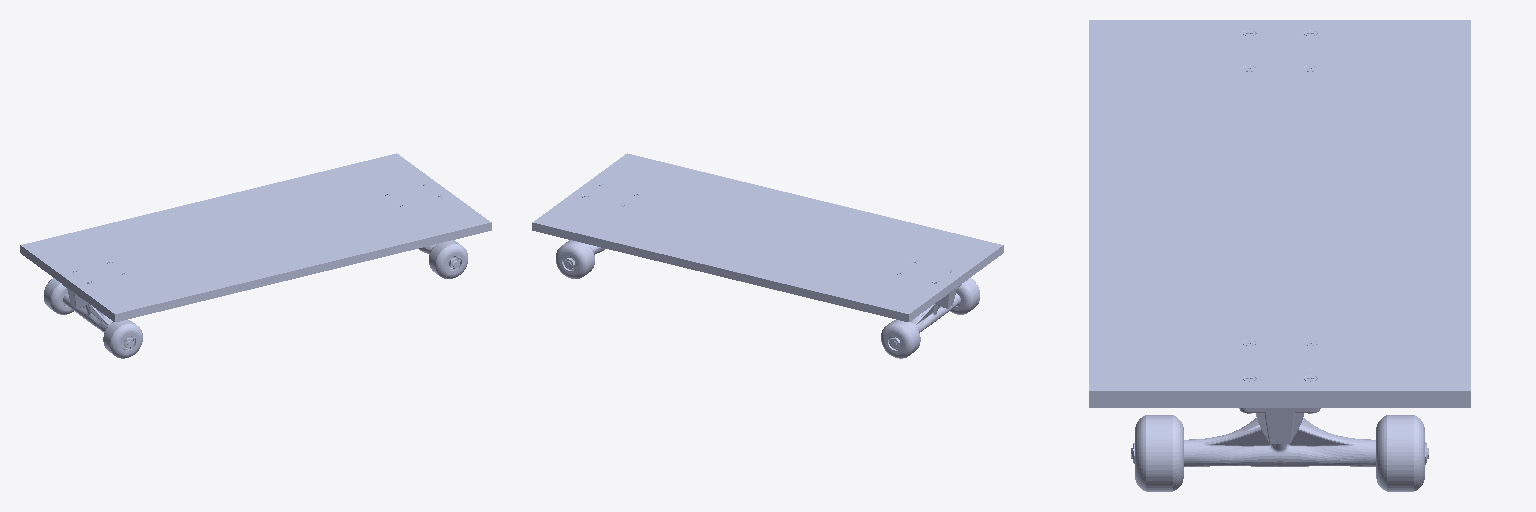
The robot description file, URDF, robot "skate":
<?xml version="1.0" encoding="utf-8"?>
<!-- This URDF was automatically created by SolidWorks to URDF Exporter! Originally created by [author] ([email redacted]) 
     Commit Version: 1.6.0-4-g7f85cfe  Build Version: 1.6.7995.38578
     For more information, please see http://wiki.ros.org/sw_urdf_exporter -->
<robot
  name="skate">
  <link
    name="base_link">
    <inertial>
      <origin
        xyz="-3.90900970040696E-07 1.65554556660567E-08 0.0803398063222811"
        rpy="0 0 0" />
      <mass
        value="1.87355927123978" />
      <inertia
        ixx="0.00903114129612671"
        ixy="-1.58213084430304E-08"
        ixz="-4.399022323366E-09"
        iyy="0.0474941673494156"
        iyz="1.8618547459719E-10"
        izz="0.0564670480761005" />
    </inertial>
    <visual>
      <origin
        xyz="0 0 0"
        rpy="0 0 0" />
      <geometry>
        <mesh
          filename="package://skate/meshes/base_link.STL" />
      </geometry>
      <material
        name="">
        <color
          rgba="0.792156862745098 0.819607843137255 0.933333333333333 1" />
      </material>
    </visual>
    <collision>
      <origin
        xyz="0 0 0"
        rpy="0 0 0" />
      <geometry>
        <mesh
          filename="package://skate/meshes/base_link.STL" />
      </geometry>
    </collision>
  </link>
  <link
    name="tr0">
    <inertial>
      <origin
        xyz="-0.00394785875464684 1.37510124957975E-05 0.00254298733552262"
        rpy="0 0 0" />
      <mass
        value="0.054711382215971" />
      <inertia
        ixx="7.61776062793999E-05"
        ixy="4.24208360983496E-09"
        ixz="-1.67941899830751E-07"
        iyy="6.50792133855701E-06"
        iyz="3.53198528592784E-09"
        izz="7.70651806985149E-05" />
    </inertial>
    <visual>
      <origin
        xyz="0 0 0"
        rpy="0 0 0" />
      <geometry>
        <mesh
          filename="package://skate/meshes/tr0.STL" />
      </geometry>
      <material
        name="">
        <color
          rgba="0.792156862745098 0.819607843137255 0.933333333333333 1" />
      </material>
    </visual>
    <collision>
      <origin
        xyz="0 0 0"
        rpy="0 0 0" />
      <geometry>
        <mesh
          filename="package://skate/meshes/tr0.STL" />
      </geometry>
    </collision>
  </link>
  <joint
    name="trj0"
    type="revolute">
    <origin
      xyz="0.248451238407881 0 0.0249999999999996"
      rpy="0 0.380444263902653 0" />
    <parent
      link="base_link" />
    <child
      link="tr0" />
    <axis
      xyz="0 0 -1" />
    <limit
      lower="-0.227799"
      upper="0.227799"
      effort="0"
      velocity="0" />
  </joint>
  <link
    name="wh0">
    <inertial>
      <origin
        xyz="0 -3.7470027081099E-16 -6.24847396046846E-15"
        rpy="0 0 0" />
      <mass
        value="0.0490782123073816" />
      <inertia
        ixx="1.14097578389298E-05"
        ixy="-2.95578023787108E-23"
        ixz="5.51817720020061E-24"
        iyy="1.63120870051882E-05"
        iyz="5.05450120212838E-22"
        izz="1.14097578389298E-05" />
    </inertial>
    <visual>
      <origin
        xyz="0 0 0"
        rpy="0 0 0" />
      <geometry>
        <mesh
          filename="package://skate/meshes/wh0.STL" />
      </geometry>
      <material
        name="">
        <color
          rgba="0.792156862745098 0.819607843137255 0.933333333333333 1" />
      </material>
    </visual>
    <collision>
      <origin
        xyz="0 0 0"
        rpy="0 0 0" />
      <geometry>
        <mesh
          filename="package://skate/meshes/wh0.STL" />
      </geometry>
    </collision>
  </link>
  <joint
    name="whj0"
    type="continuous">
    <origin
      xyz="0 -0.079 0"
      rpy="-3.1416 -0.38044 0" />
    <parent
      link="tr0" />
    <child
      link="wh0" />
    <axis
      xyz="0 -1 0" />
  </joint>
  <link
    name="wh1">
    <inertial>
      <origin
        xyz="0 -4.16333634234434E-16 -6.21377949094892E-15"
        rpy="0 0 0" />
      <mass
        value="0.0490782123073816" />
      <inertia
        ixx="1.14097578389298E-05"
        ixy="-2.95578023787108E-23"
        ixz="5.50508017383537E-24"
        iyy="1.63120870051882E-05"
        iyz="5.04008068678283E-22"
        izz="1.14097578389298E-05" />
    </inertial>
    <visual>
      <origin
        xyz="0 0 0"
        rpy="0 0 0" />
      <geometry>
        <mesh
          filename="package://skate/meshes/wh1.STL" />
      </geometry>
      <material
        name="">
        <color
          rgba="0.792156862745098 0.819607843137255 0.933333333333333 1" />
      </material>
    </visual>
    <collision>
      <origin
        xyz="0 0 0"
        rpy="0 0 0" />
      <geometry>
        <mesh
          filename="package://skate/meshes/wh1.STL" />
      </geometry>
    </collision>
  </link>
  <joint
    name="whj1"
    type="continuous">
    <origin
      xyz="0 0.079 0"
      rpy="-3.1416 -0.38044 0" />
    <parent
      link="tr0" />
    <child
      link="wh1" />
    <axis
      xyz="0 -1 0" />
  </joint>
  <link
    name="tr1">
    <inertial>
      <origin
        xyz="-0.00394785564541764 1.37474025140887E-05 0.0025429982740449"
        rpy="0 0 0" />
      <mass
        value="0.0547113523962588" />
      <inertia
        ixx="7.61776015347802E-05"
        ixy="4.24279245655275E-09"
        ixz="-1.67936058589737E-07"
        iyy="6.50790703894931E-06"
        iyz="3.5340498258754E-09"
        izz="7.70651635533687E-05" />
    </inertial>
    <visual>
      <origin
        xyz="0 0 0"
        rpy="0 0 0" />
      <geometry>
        <mesh
          filename="package://skate/meshes/tr1.STL" />
      </geometry>
      <material
        name="">
        <color
          rgba="0.792156862745098 0.819607843137255 0.933333333333333 1" />
      </material>
    </visual>
    <collision>
      <origin
        xyz="0 0 0"
        rpy="0 0 0" />
      <geometry>
        <mesh
          filename="package://skate/meshes/tr1.STL" />
      </geometry>
    </collision>
  </link>
  <joint
    name="trj1"
    type="revolute">
    <origin
      xyz="-0.248451238407882 0 0.025"
      rpy="0 0.380444263902653 3.14159265358979" />
    <parent
      link="base_link" />
    <child
      link="tr1" />
    <axis
      xyz="0 0 -1" />
    <limit
      lower="-0.227799"
      upper="0.227799"
      effort="0"
      velocity="0" />
  </joint>
  <link
    name="wh2">
    <inertial>
      <origin
        xyz="2.13717932240343E-15 0.0159999999999954 8.67361737988404E-17"
        rpy="0 0 0" />
      <mass
        value="0.0490782123073816" />
      <inertia
        ixx="1.14097578389298E-05"
        ixy="-2.91712946886286E-23"
        ixz="-8.02234876879247E-23"
        iyy="1.63120870051882E-05"
        iyz="5.04019026293652E-22"
        izz="1.14097578389298E-05" />
    </inertial>
    <visual>
      <origin
        xyz="0 0 0"
        rpy="0 0 0" />
      <geometry>
        <mesh
          filename="package://skate/meshes/wh2.STL" />
      </geometry>
      <material
        name="">
        <color
          rgba="0.792156862745098 0.819607843137255 0.933333333333333 1" />
      </material>
    </visual>
    <collision>
      <origin
        xyz="0 0 0"
        rpy="0 0 0" />
      <geometry>
        <mesh
          filename="package://skate/meshes/wh2.STL" />
      </geometry>
    </collision>
  </link>
  <joint
    name="whj2"
    type="continuous">
    <origin
      xyz="0 0.063 0"
      rpy="3.1416 0.38044 3.1416" />
    <parent
      link="tr1" />
    <child
      link="wh2" />
    <axis
      xyz="0 -1 0" />
  </joint>
  <link
    name="wh3">
    <inertial>
      <origin
        xyz="2.4980018054066E-15 -0.0160000000000055 4.1286418728248E-16"
        rpy="0 0 0" />
      <mass
        value="0.0490782123073816" />
      <inertia
        ixx="1.14097578389298E-05"
        ixy="4.15744681797579E-22"
        ixz="-1.28506924098295E-23"
        iyy="1.63120870051882E-05"
        iyz="-1.51826352916935E-20"
        izz="1.14097578389298E-05" />
    </inertial>
    <visual>
      <origin
        xyz="0 0 0"
        rpy="0 0 0" />
      <geometry>
        <mesh
          filename="package://skate/meshes/wh3.STL" />
      </geometry>
      <material
        name="">
        <color
          rgba="0.792156862745098 0.819607843137255 0.933333333333333 1" />
      </material>
    </visual>
    <collision>
      <origin
        xyz="0 0 0"
        rpy="0 0 0" />
      <geometry>
        <mesh
          filename="package://skate/meshes/wh3.STL" />
      </geometry>
    </collision>
  </link>
  <joint
    name="whj3"
    type="continuous">
    <origin
      xyz="0 -0.063 0"
      rpy="3.1416 0.38044 3.1416" />
    <parent
      link="tr1" />
    <child
      link="wh3" />
    <axis
      xyz="0 -1 0" />
  </joint>
</robot>

--- Facts derived from the render (not from the file) ---
3 views of the same robot in one strip: view 1: azimuth 30°, elevation 25°; view 2: azimuth 150°, elevation 25°; view 3: azimuth 270°, elevation 25° (orthographic).
Robot: skate — 7 links, 6 joints (2 revolute, 4 continuous); root link base_link; default pose: every joint at zero.
Visible links, largest first — view 1: base_link, wh2, wh0, tr1, wh3; view 2: base_link, wh3, wh1, tr1, wh2; view 3: base_link, tr0, wh0, wh1.
Link boxes in pixels (box(x1,y1,x2,y2)): base_link: box(20, 153, 491, 321); wh2: box(103, 320, 142, 358); wh0: box(429, 240, 467, 278); tr1: box(63, 293, 133, 347); wh3: box(44, 278, 73, 314); base_link: box(532, 153, 1003, 321); wh3: box(881, 320, 920, 358); wh1: box(556, 240, 594, 278); tr1: box(890, 293, 960, 347); wh2: box(950, 278, 979, 314); base_link: box(1089, 20, 1470, 443); tr0: box(1131, 418, 1428, 466); wh0: box(1135, 415, 1183, 491); wh1: box(1376, 415, 1424, 491).
Bounding box of the posed robot: 0.575 × 0.25 × 0.088 m (x, y, z).
7 mesh visuals loaded from 7 distinct referenced files (7 binary STL).